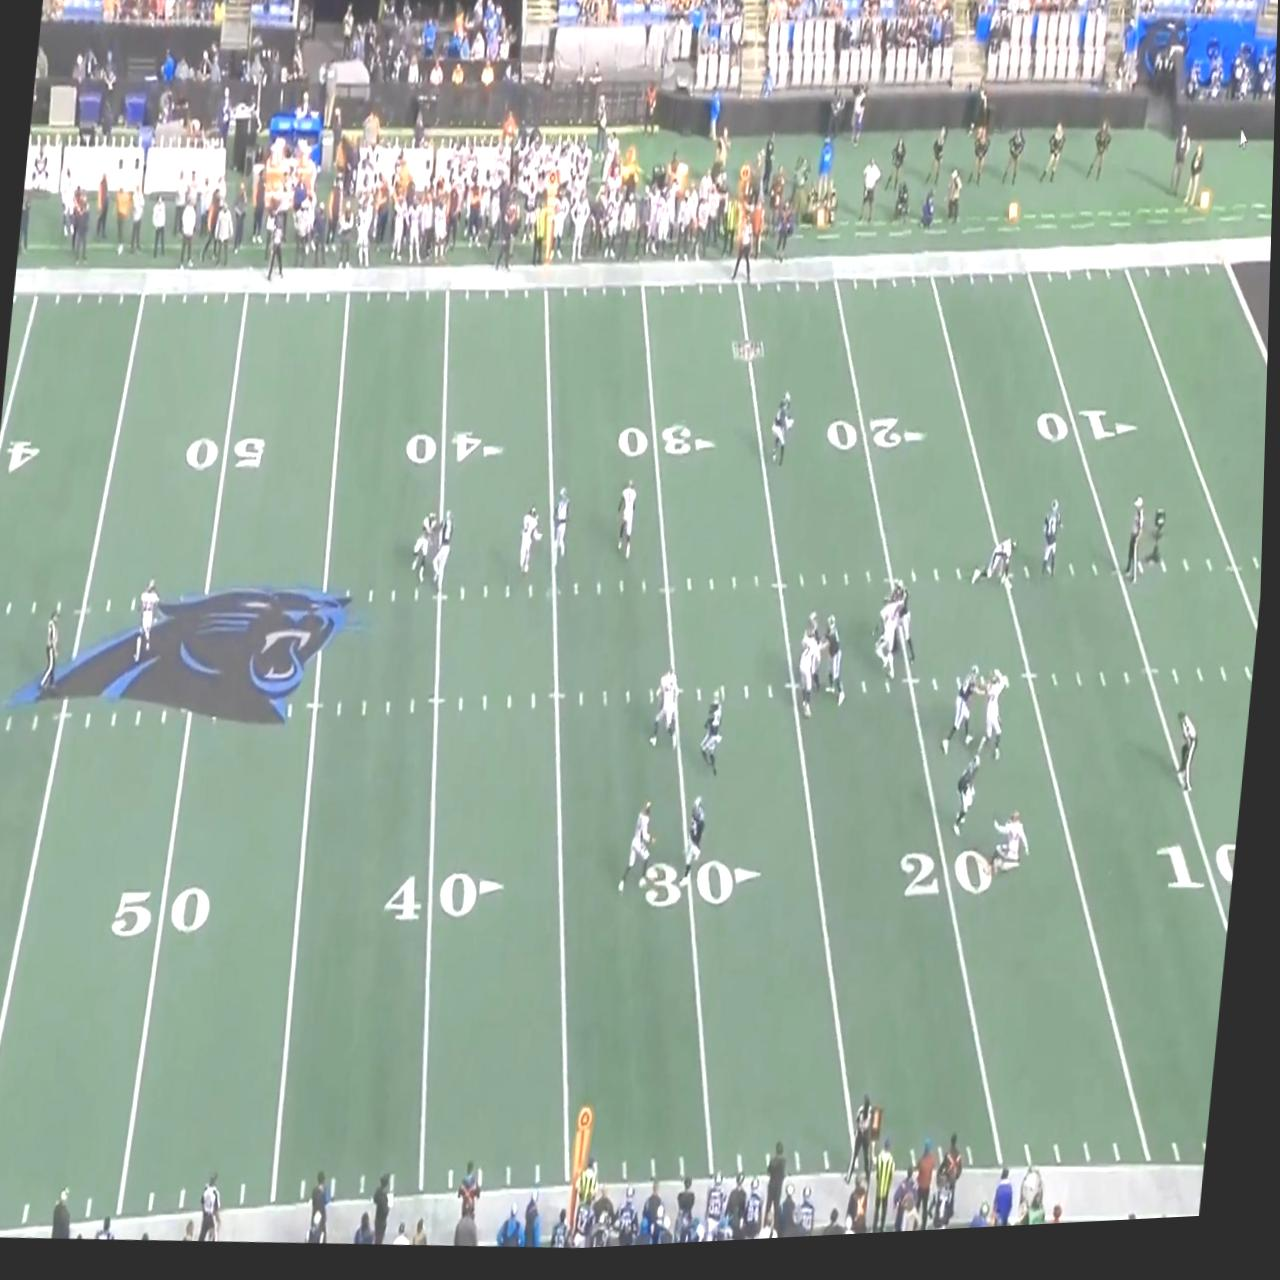10R: (1036, 415, 1144, 462), (1156, 852, 1241, 908)
20R: (901, 853, 1029, 914), (830, 418, 933, 465)
30R: (646, 860, 769, 921), (619, 423, 722, 472)
40L: (0, 438, 43, 476)
40R: (389, 869, 512, 933), (407, 430, 510, 476)
50: (117, 883, 217, 945), (189, 434, 268, 477)
